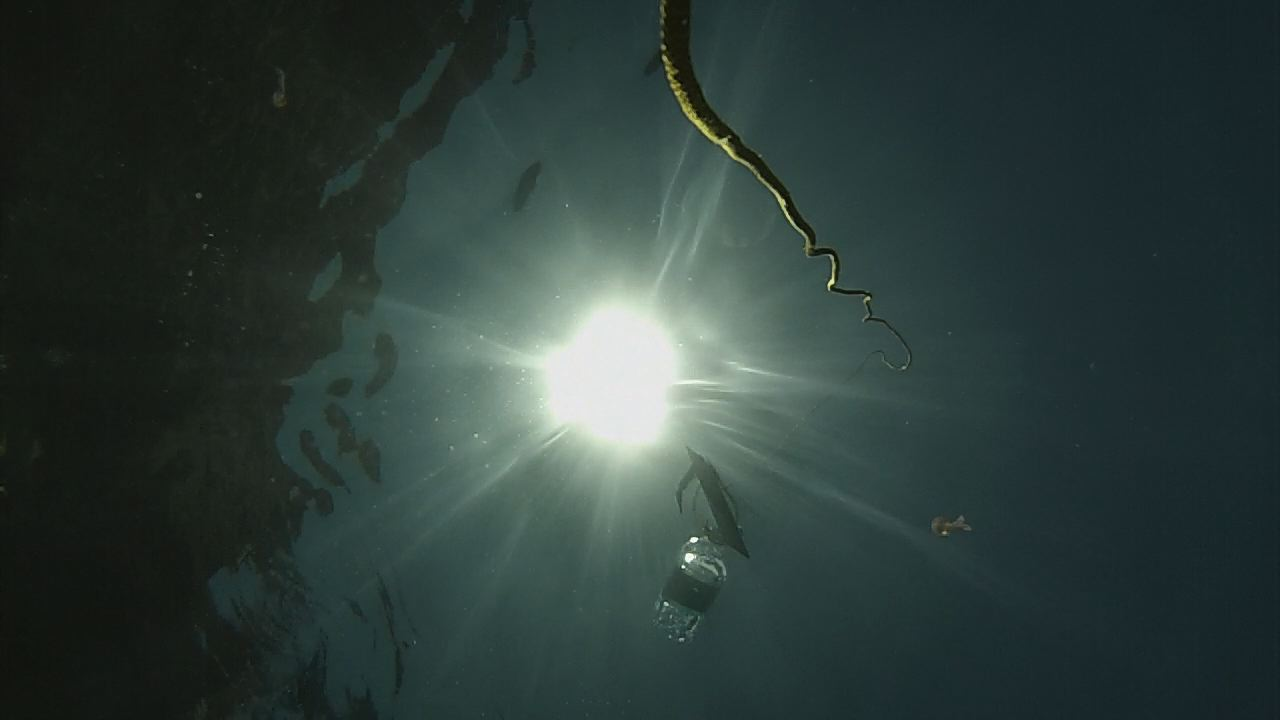pelagia: (923, 508, 980, 545), (266, 60, 294, 117)
